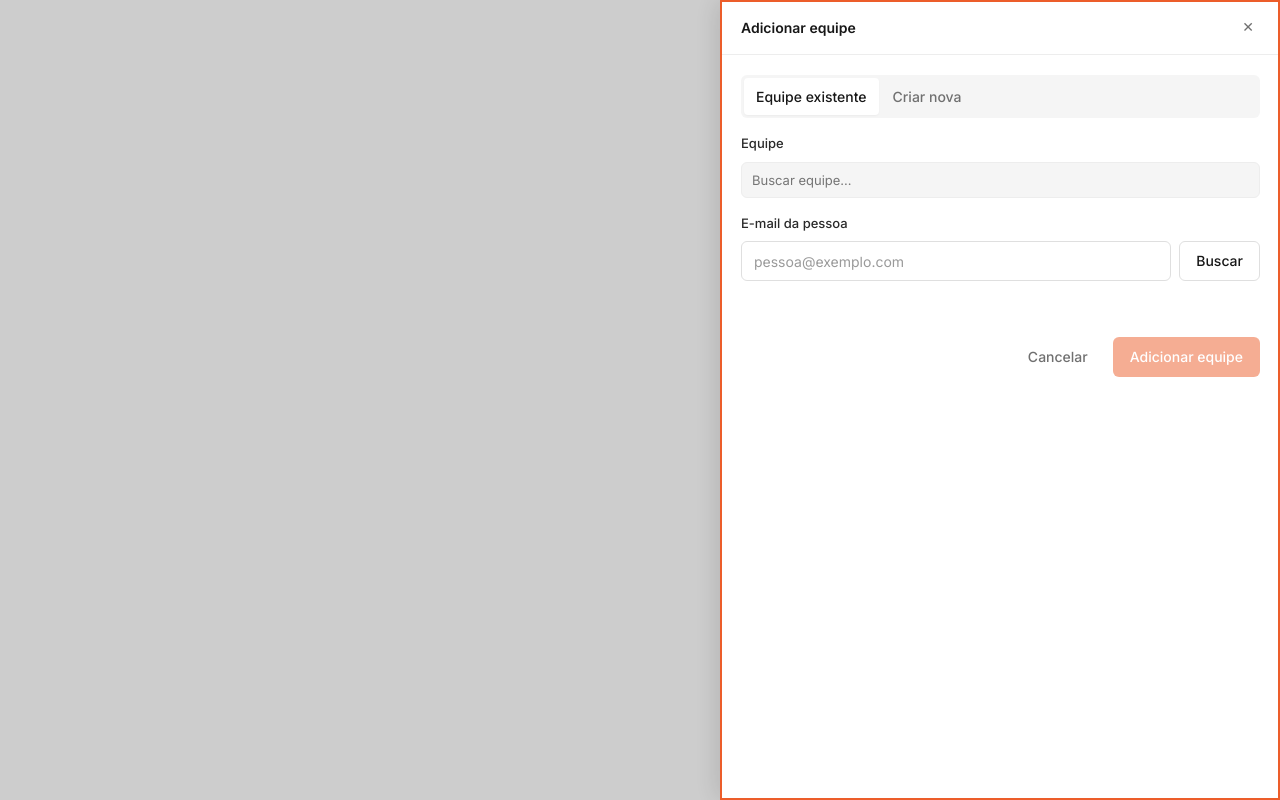
Test: TeamOnboardingDrawer › keeps the drawer open after that failure
The width and height of the screenshot is (1280, 800).
Type "agu" into the dropdown with placeholder "Buscar equipe..." at coordinates (1000, 180), box [741,162,1260,198]
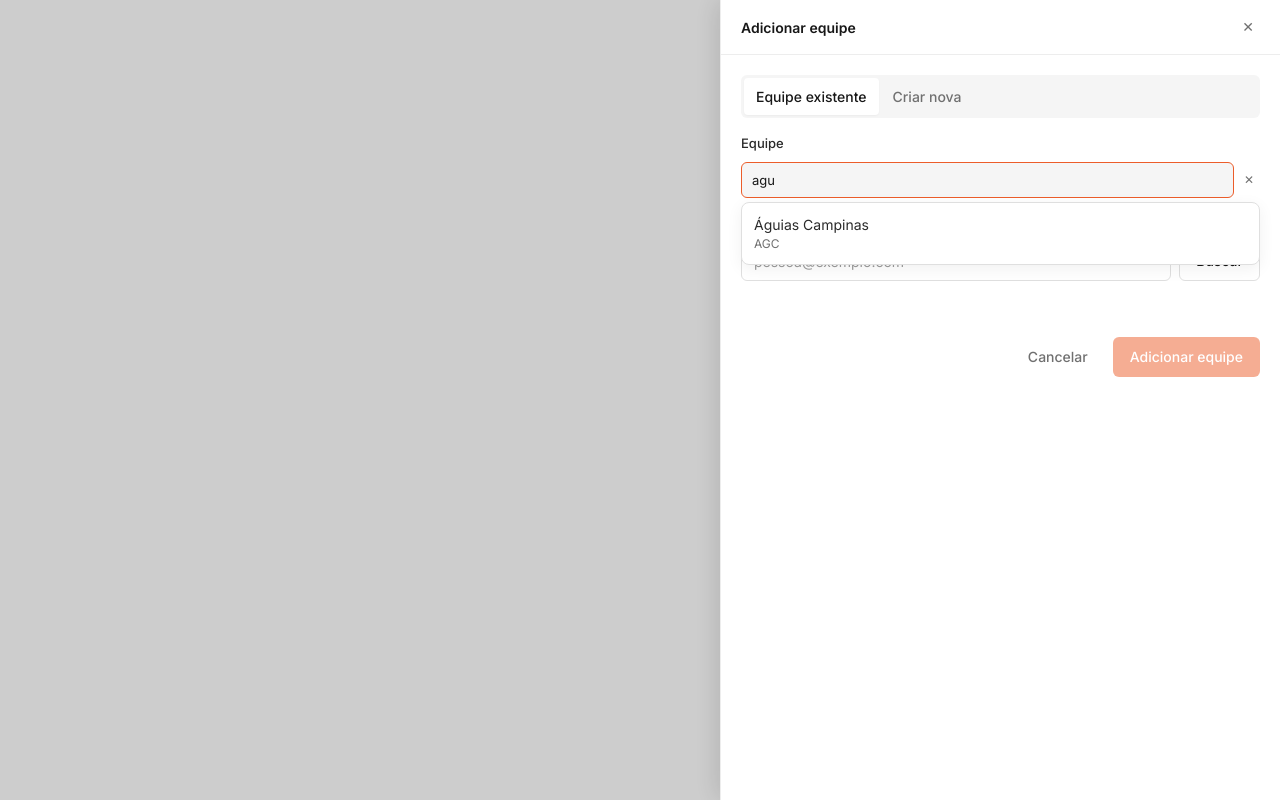
Click the option "Águias Campinas AGC" at coordinates (812, 233), box [754,216,869,250]
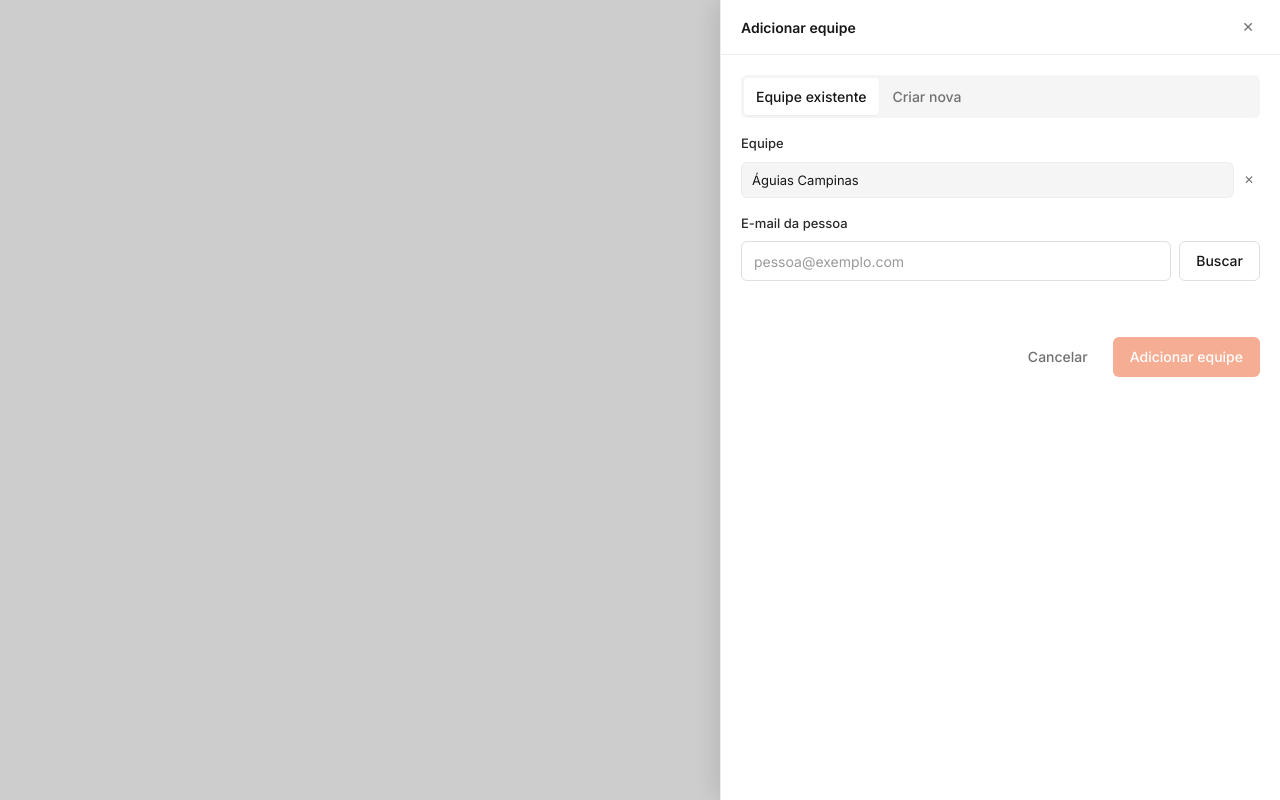
Type "marina@example.com" into the field labelled "E-mail da pessoa" at coordinates (956, 261), box [741,241,1171,281]
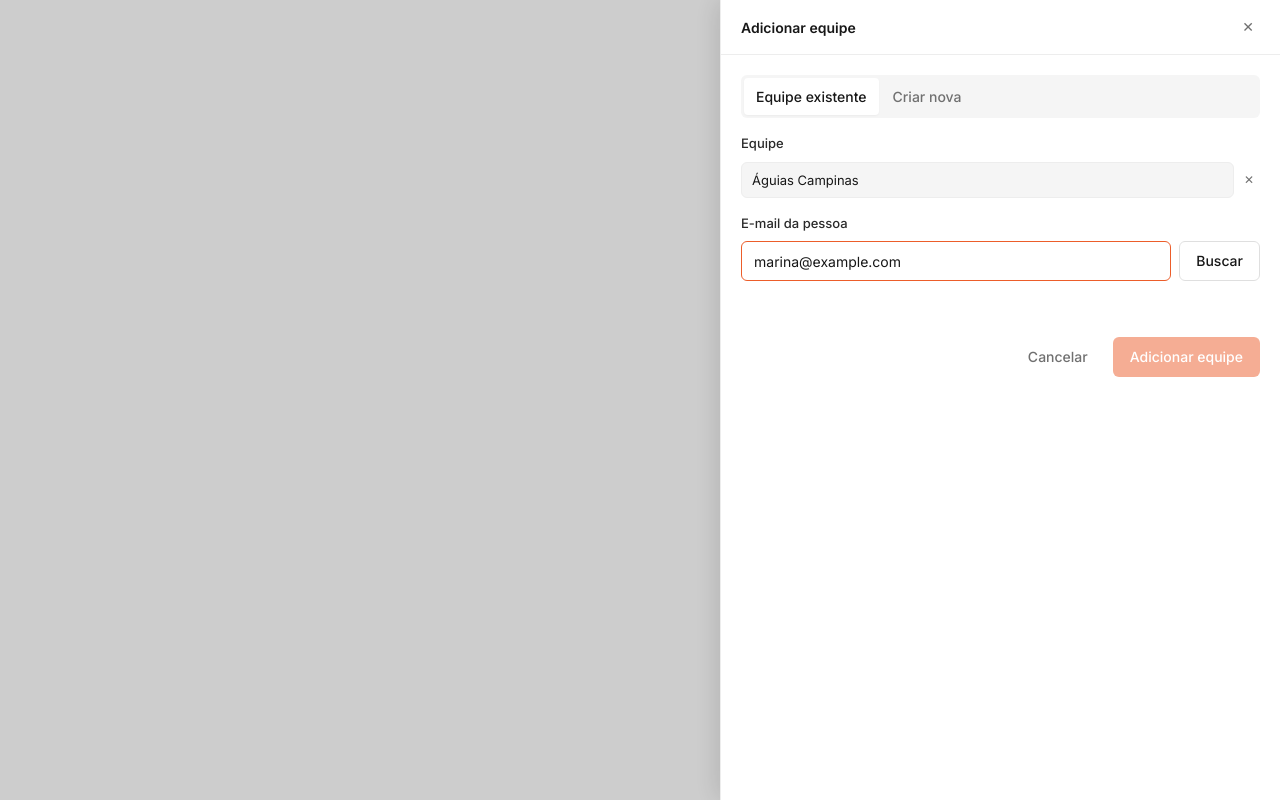
Click the button "Buscar" at coordinates (1220, 261), box [1179,241,1260,281]
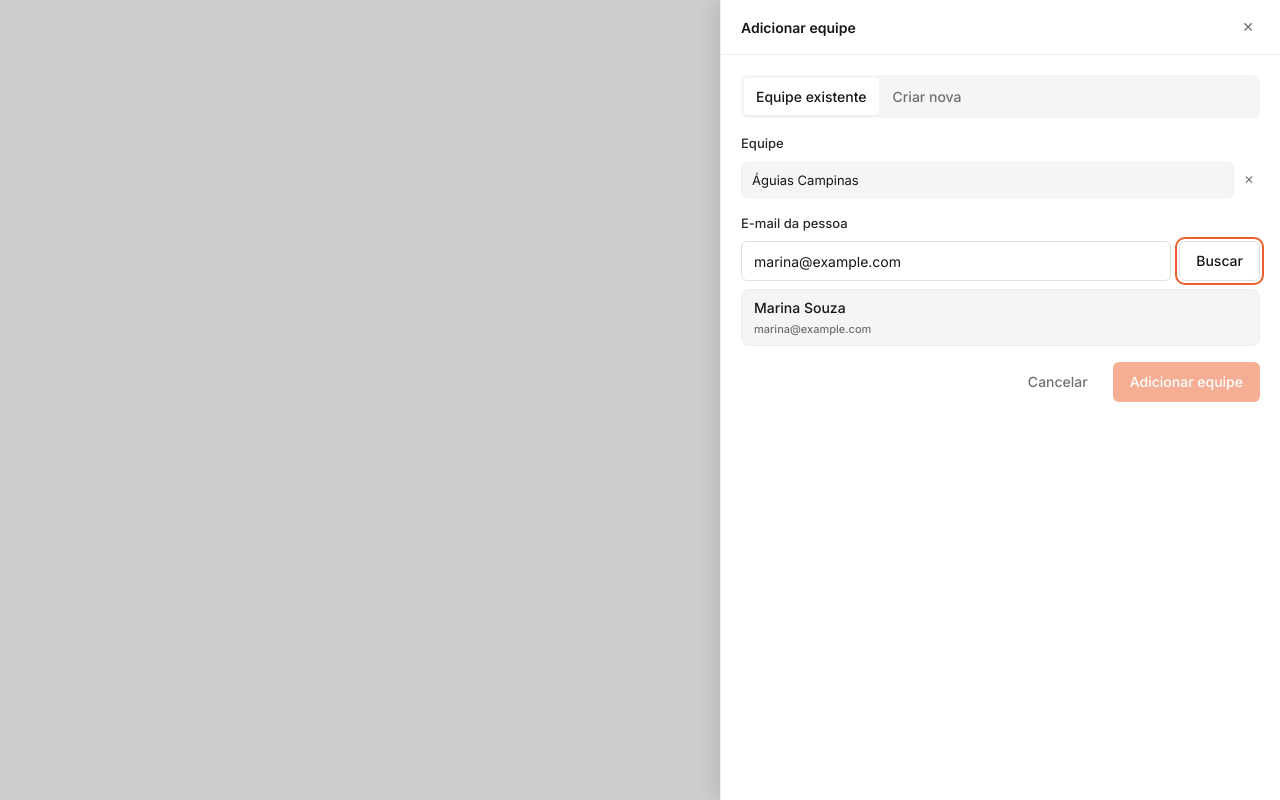
Click the button "Marina Souza marina@example.com" at coordinates (800, 308), box [741,289,1260,346]
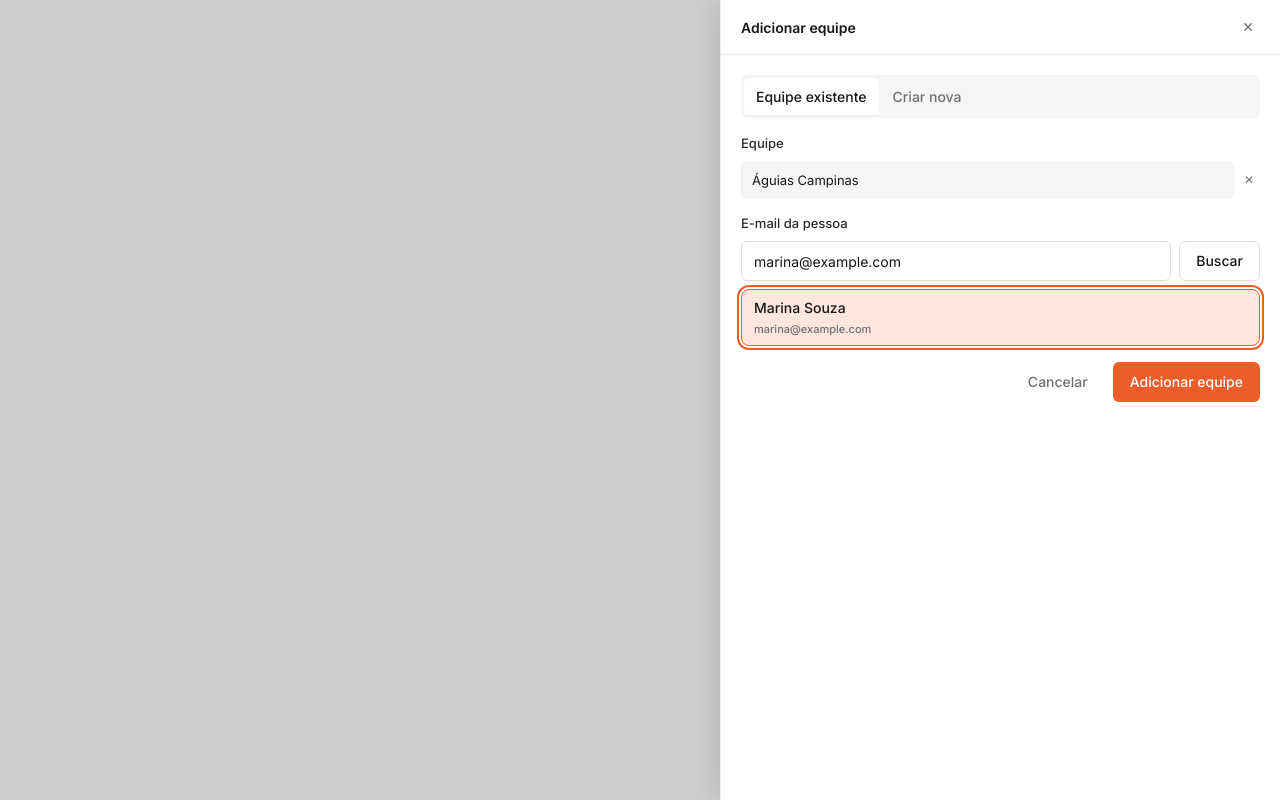
Click the button "Adicionar equipe" at coordinates (1186, 382), box [1113,362,1260,402]
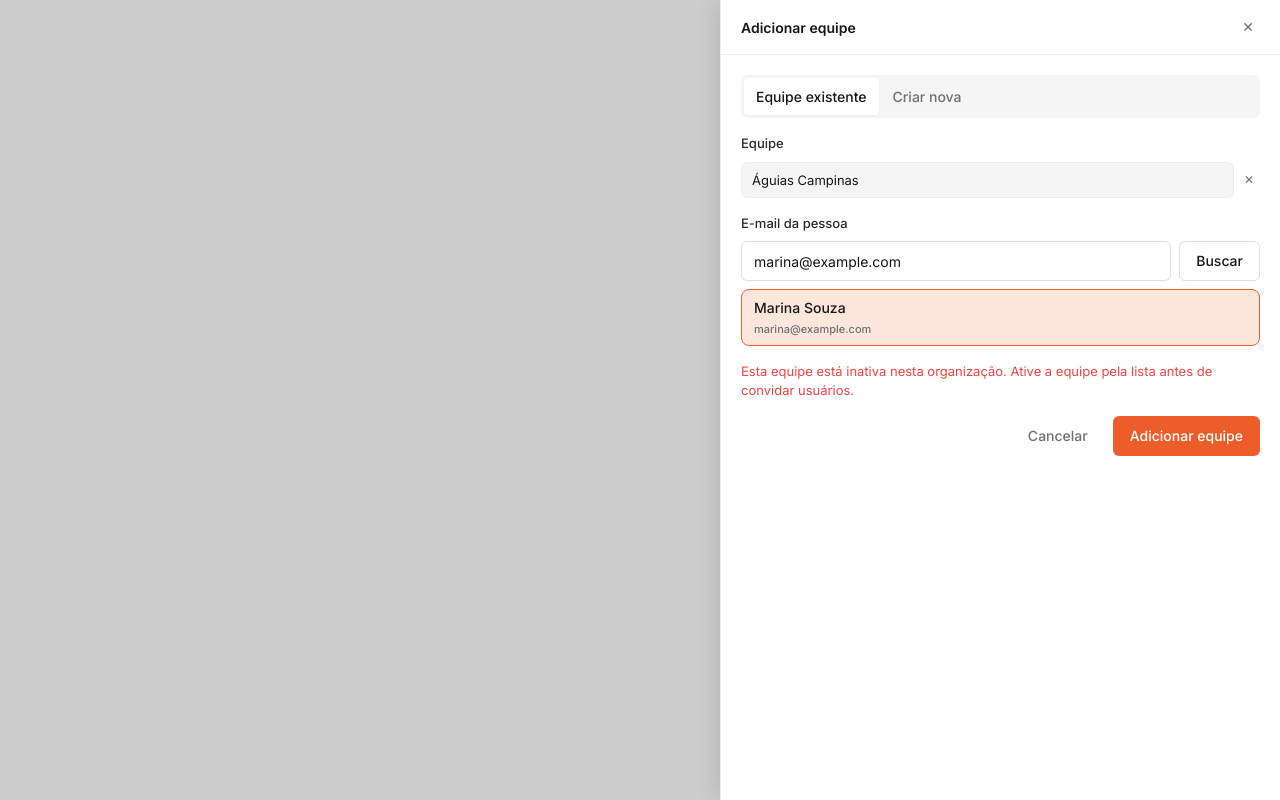
expect the message is shown: met, box [741,362,1260,400]
